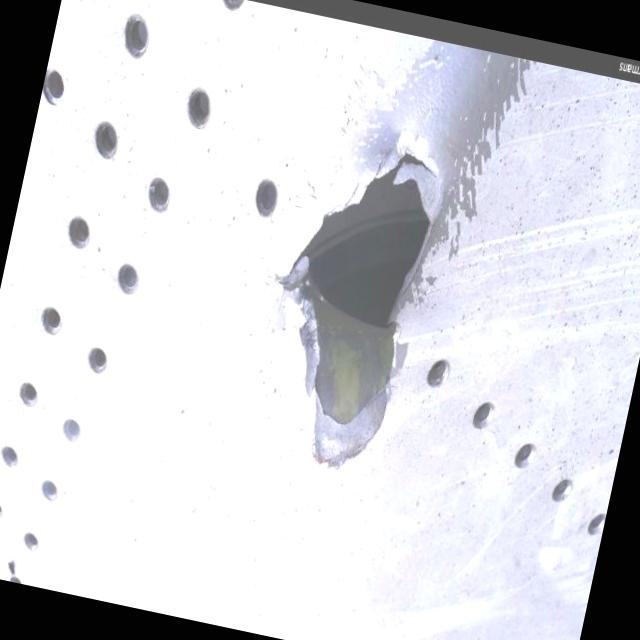crack: (241, 121, 462, 484), (0, 402, 51, 580)
